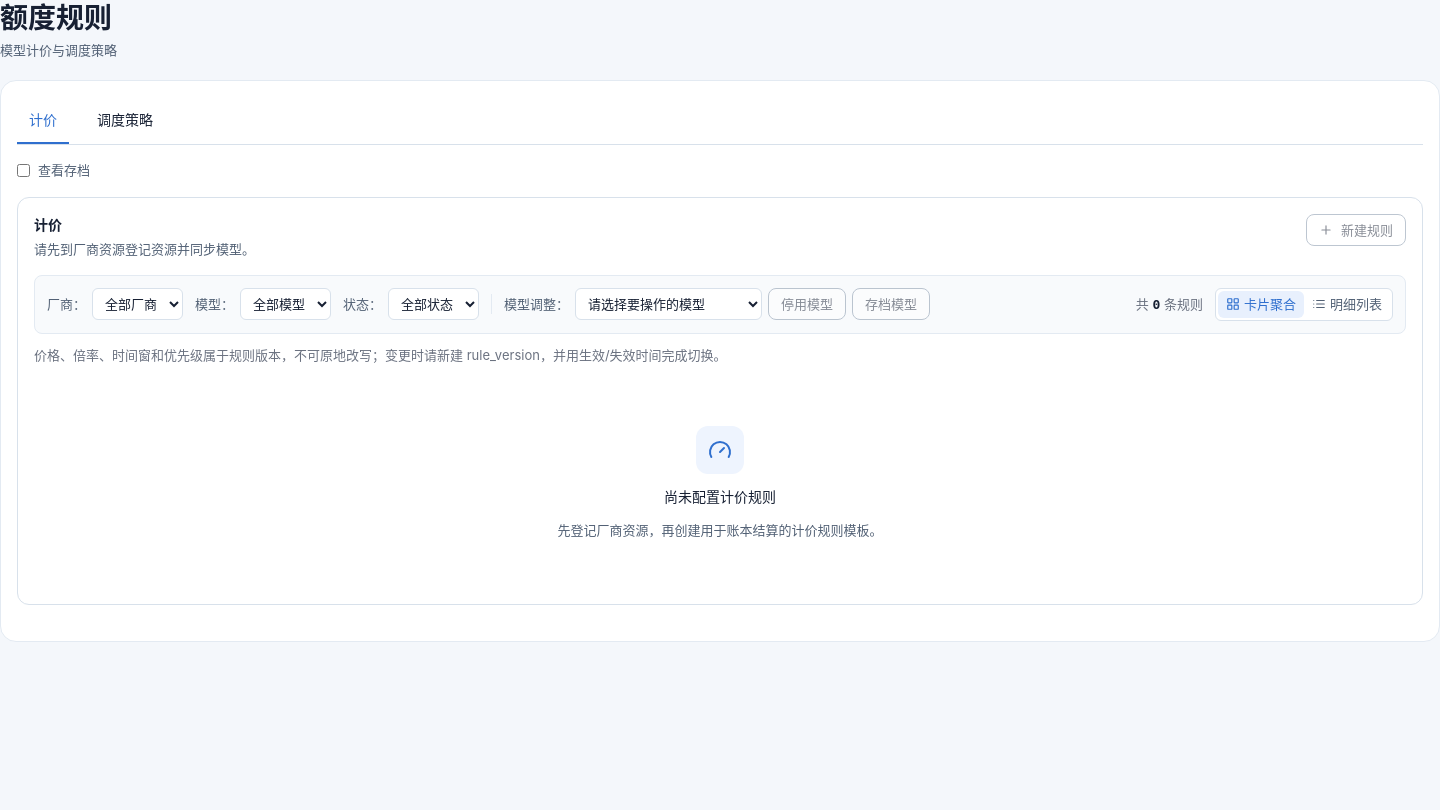
Scenario: 取消零写入；确认只按版本停用选中的Pro，刷新状态和调度目录
The width and height of the screenshot is (1440, 810).
Select "Pro（ql-pro）" in the dropdown named "模型管理" at [669, 304], box [575, 288, 762, 320]
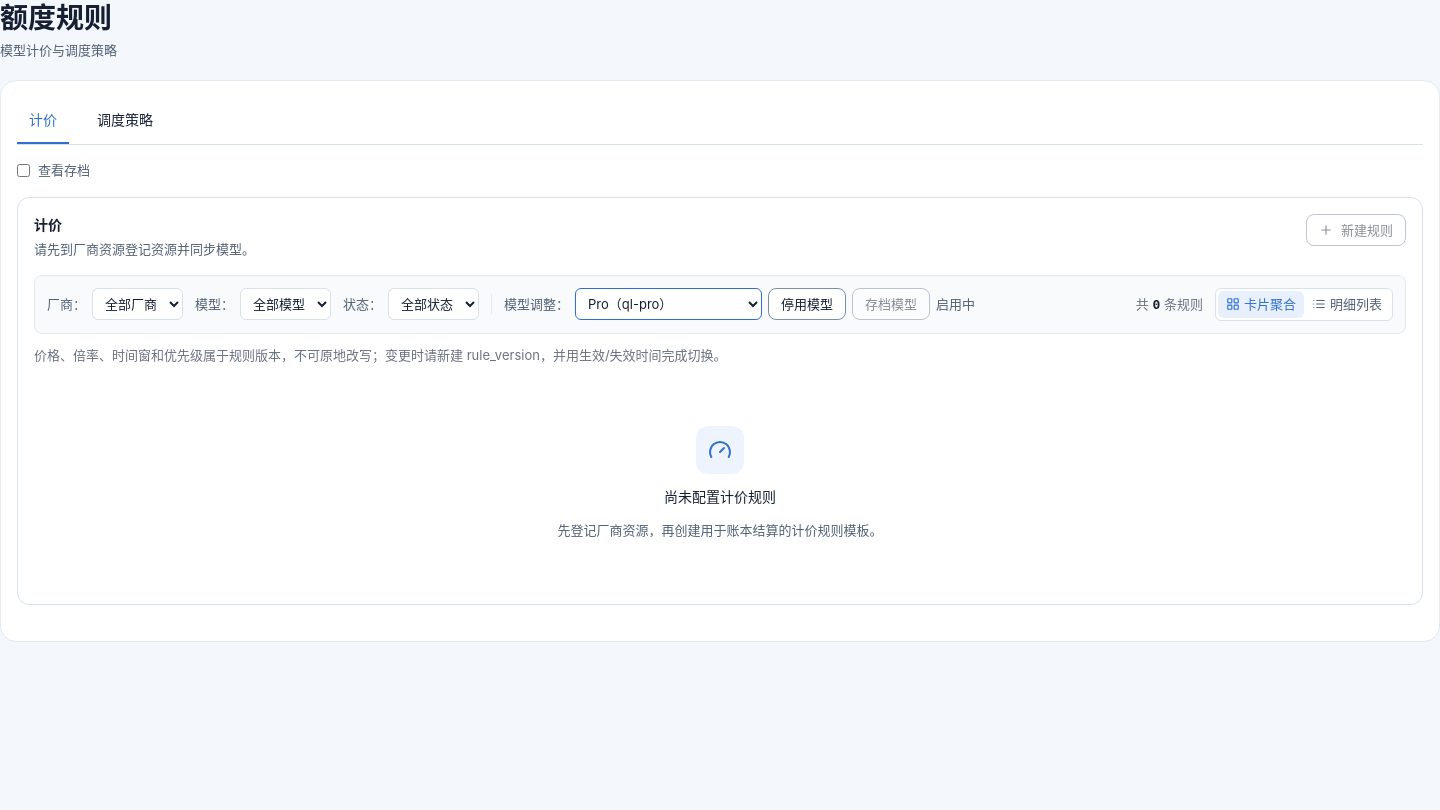
Click the button "停用模型" at [807, 304], box [768, 288, 846, 320]
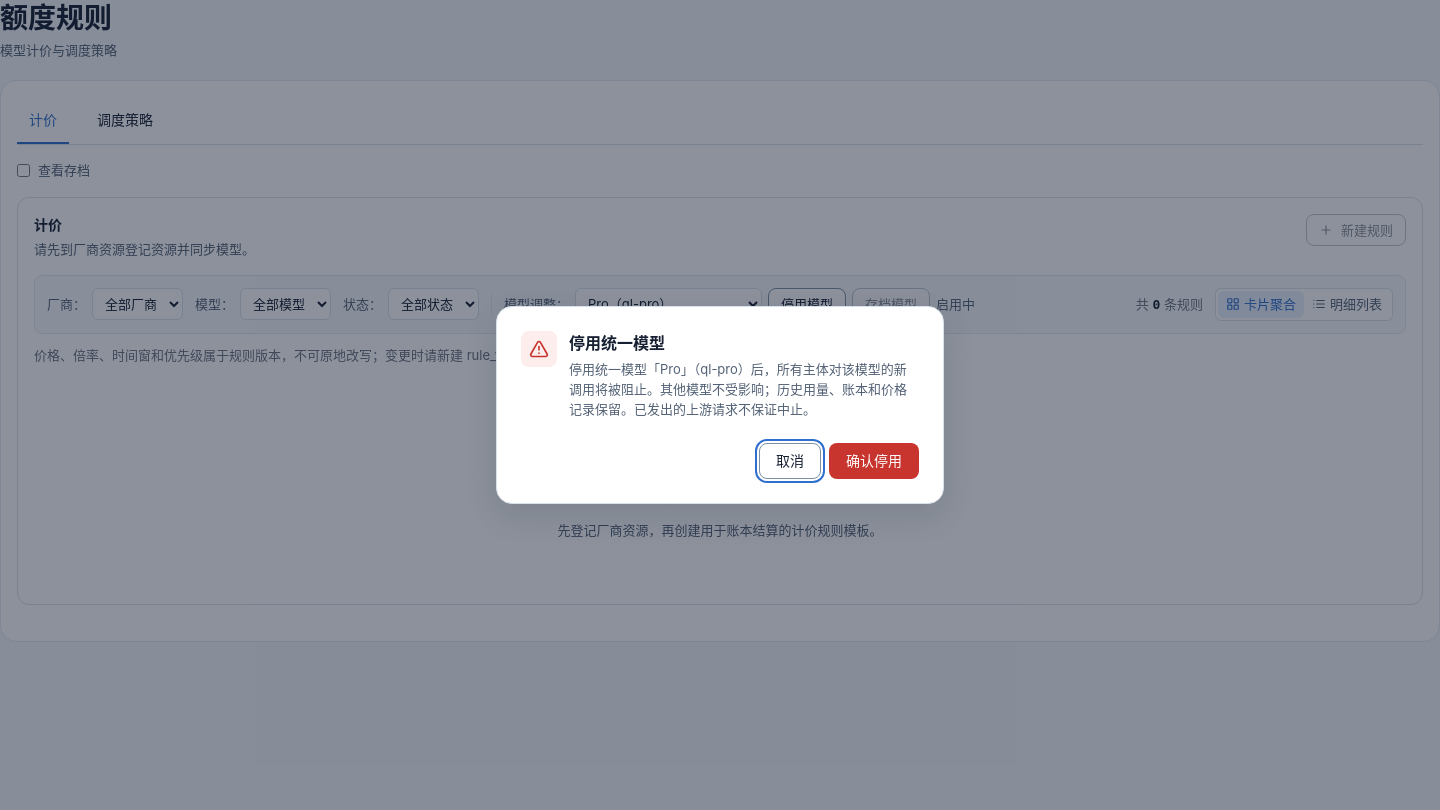
Expected: the dialog shows "Pro」（ql-pro）", [569, 361, 907, 417]
Expected: the dialog shows "历史用量、账本和价格记录保留", [569, 361, 907, 417]
Click the button "取消" at [790, 461], box [759, 443, 821, 479]
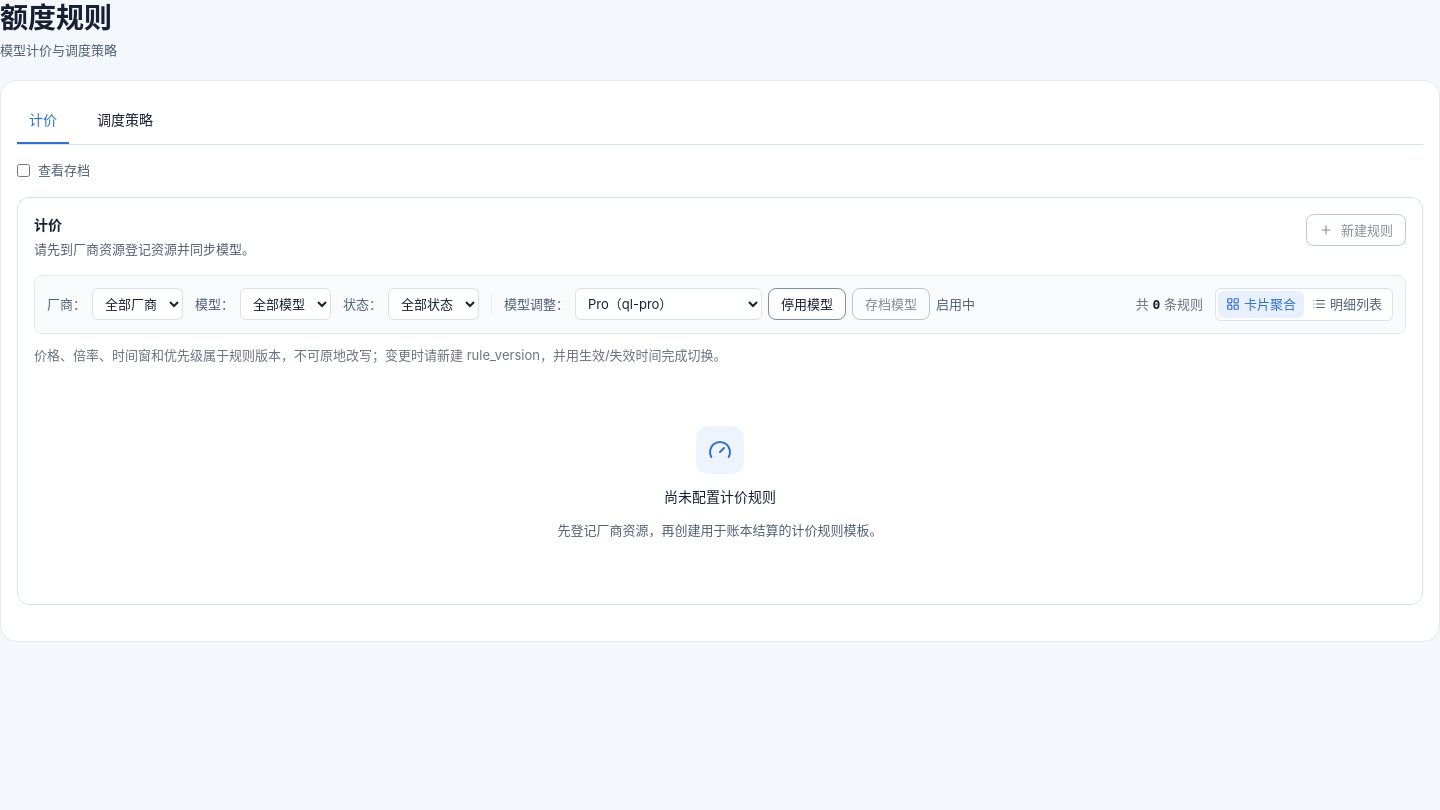
Click the button "停用模型" at [807, 304], box [768, 288, 846, 320]
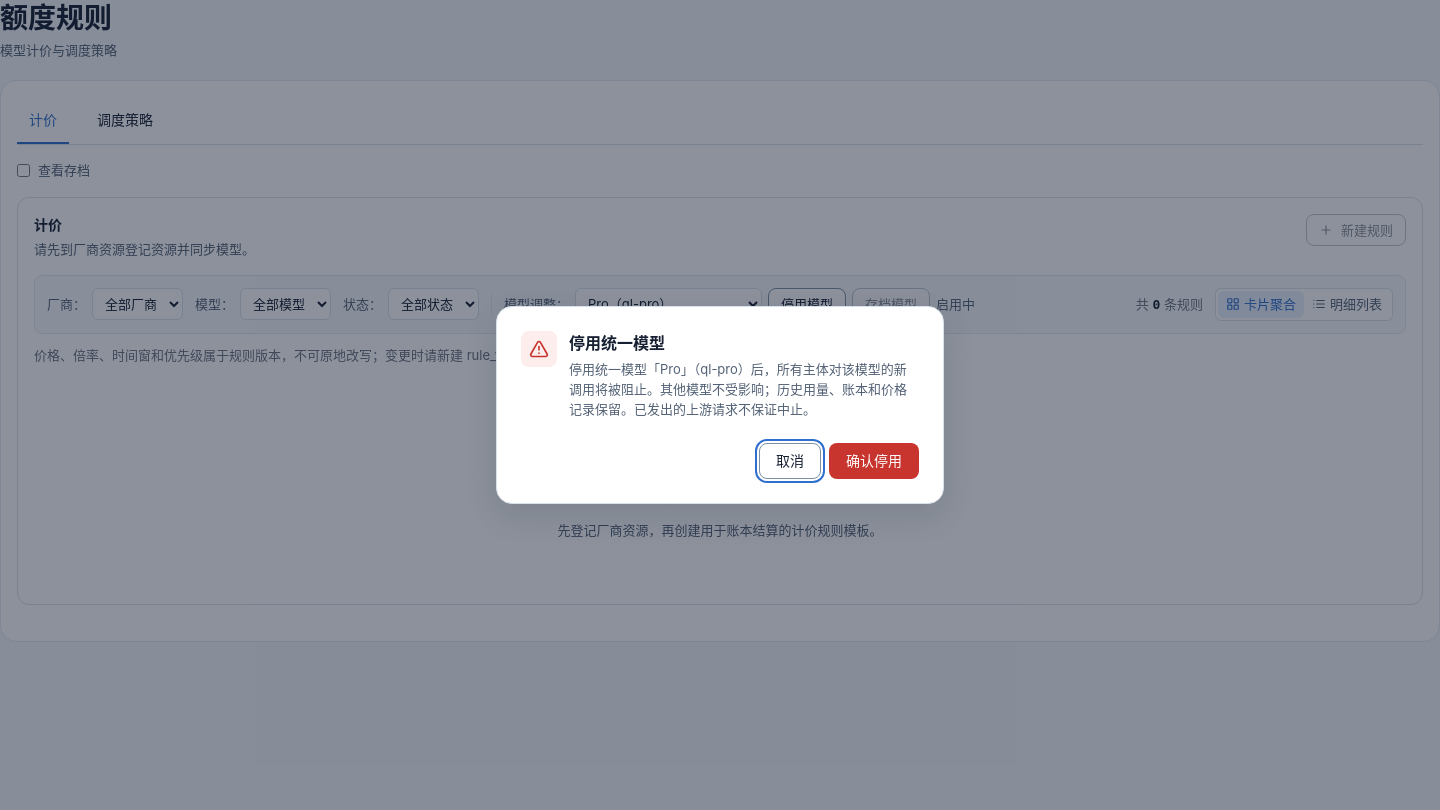
Click the button "确认停用" at [874, 461], box [829, 443, 919, 479]
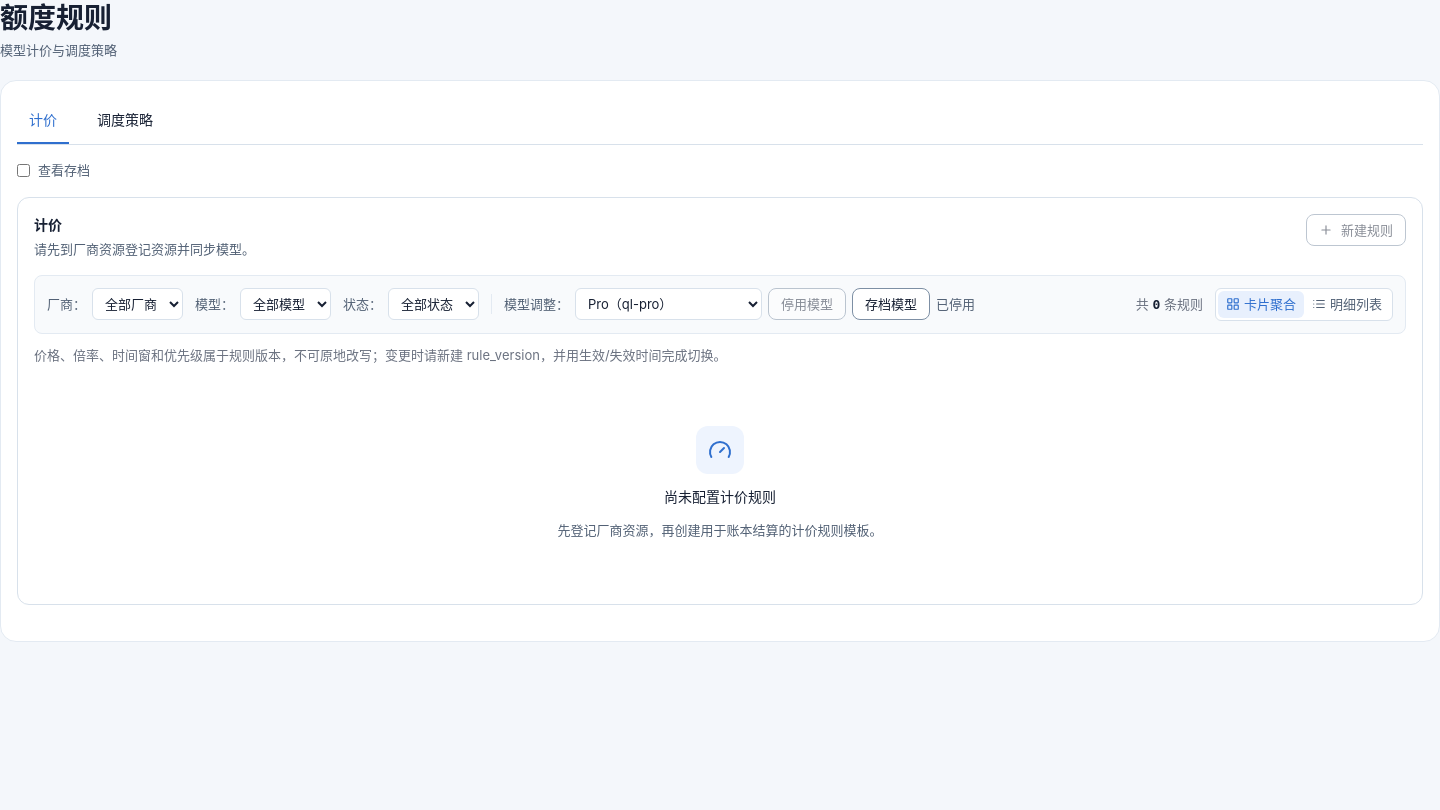
Expected: the message reads "已停用", [936, 296, 975, 312]
Expected: the dialog is gone
Expected: the button "停用模型" is disabled, [768, 288, 846, 320]
Select "Flash（ql-flash）" in the dropdown named "模型管理" at [669, 304], box [575, 288, 762, 320]
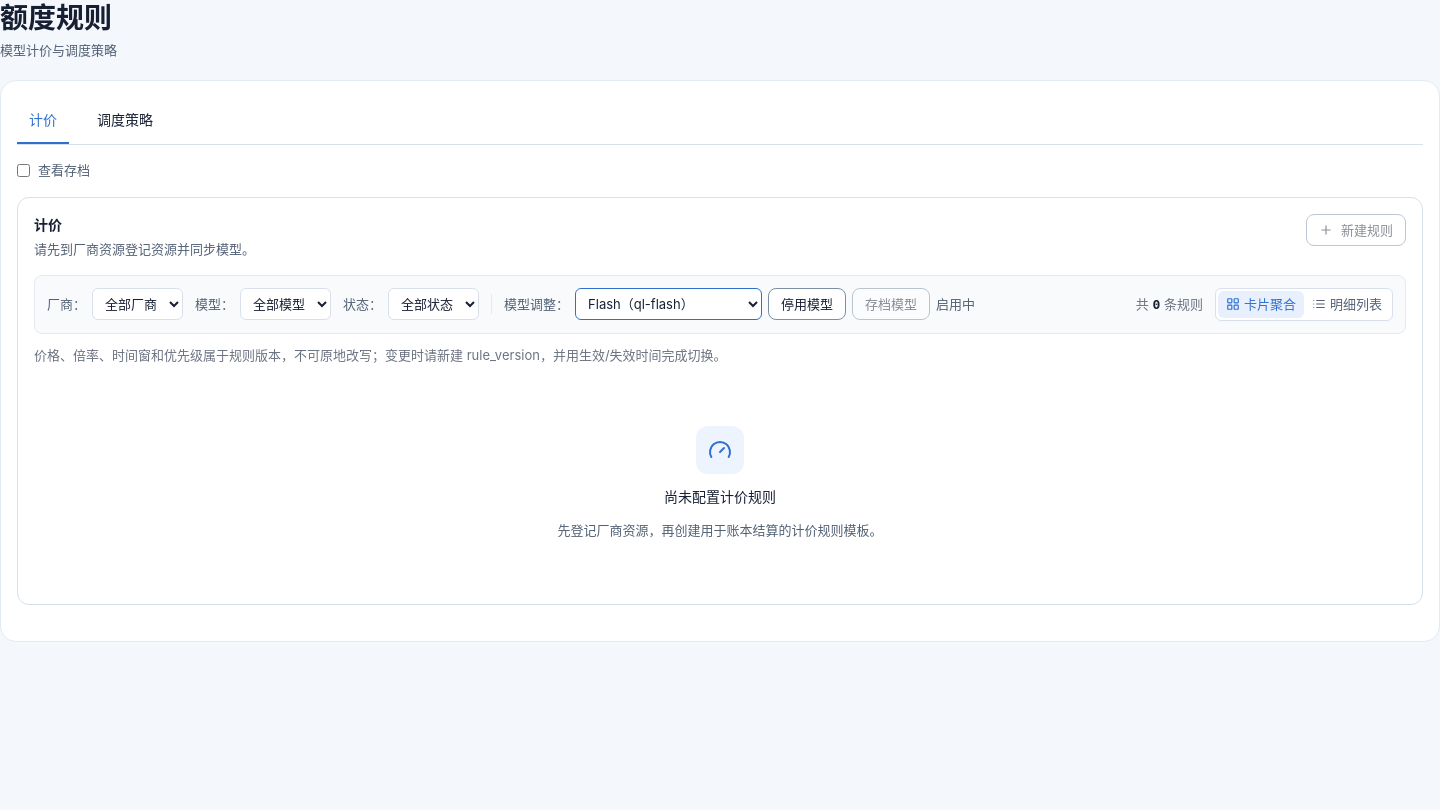
Expected: the message reads "启用中", [936, 296, 975, 312]
Expected: the button "停用模型" is enabled, [768, 288, 846, 320]
